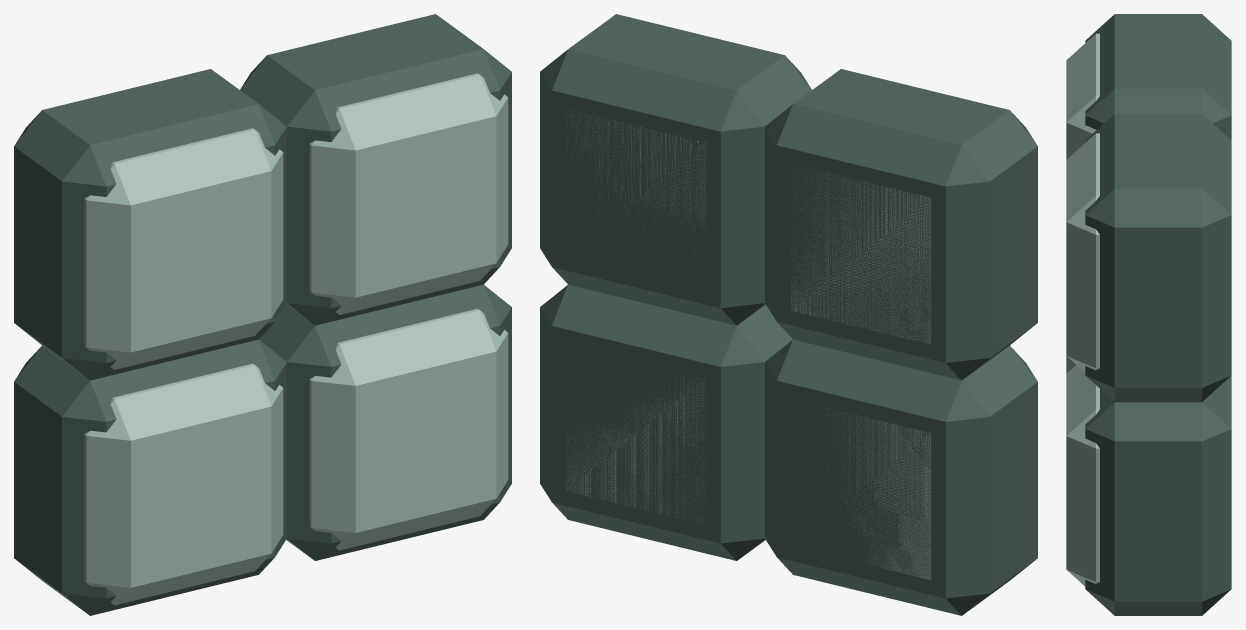
The model's file is Terrain_Block2x2.gltf.
3 views of the same model, side by side, from view 1: azimuth 30°, elevation 25°; view 2: azimuth 150°, elevation 25°; view 3: azimuth 270°, elevation 25° (orthographic). The views are drawn at different scales.
Parts seen in each view (by area): view 1: Terrain_Block2x2_baked; view 2: Terrain_Block2x2_baked; view 3: Terrain_Block2x2_baked.
Part boxes in pixels (x1,y1,x2,y2): Terrain_Block2x2_baked: (14,14,511,615); Terrain_Block2x2_baked: (540,14,1037,615); Terrain_Block2x2_baked: (1066,14,1231,615).
Bounding box in the file's own units: 2 × 2 × 0.7.
